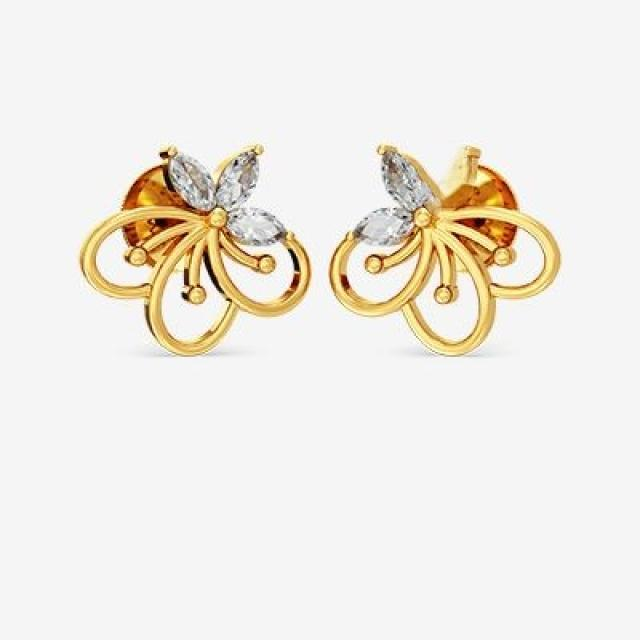missing gem: (435, 149, 468, 203)
